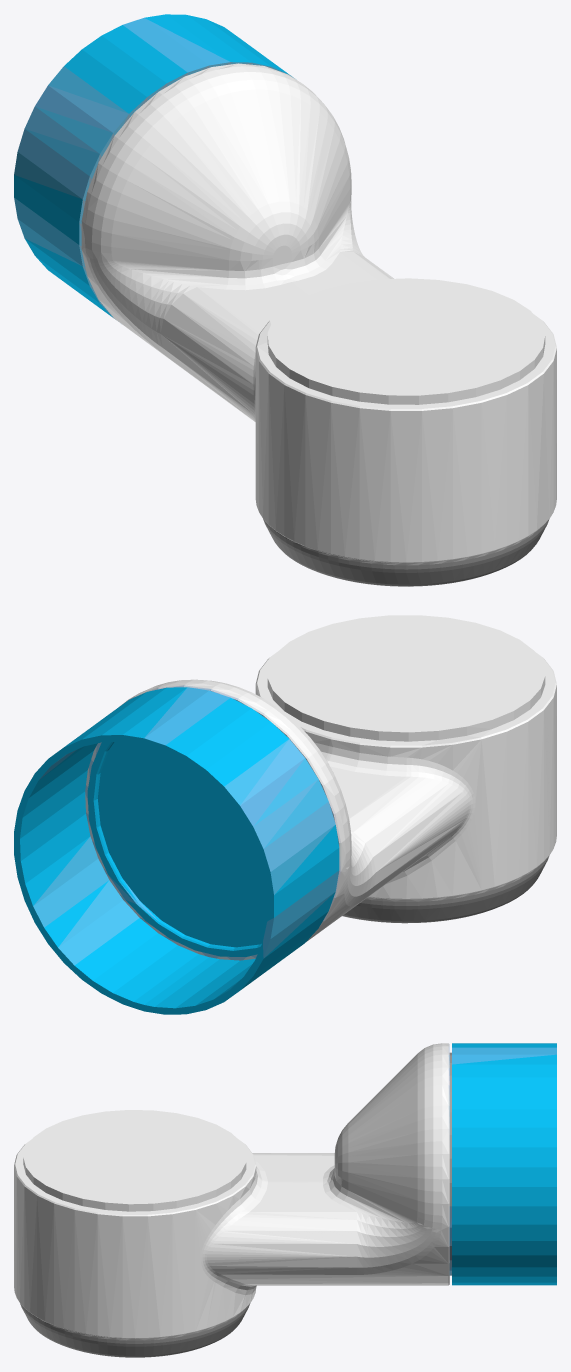
Rendered from FetchLink3.dae.
3 views of the same model, one above another, from view 1: azimuth 30°, elevation 25°; view 2: azimuth 150°, elevation 25°; view 3: azimuth 270°, elevation 25° (orthographic). The views are drawn at different scales.
Visible parts, largest first — view 1: FetchLink3; view 2: FetchLink3; view 3: FetchLink3.
Boxes of the visible parts, x1,y1,x2,y2 form: FetchLink3: [14, 14, 556, 586]; FetchLink3: [14, 615, 556, 1014]; FetchLink3: [14, 1043, 556, 1357].
Bounding box in the file's own units: 0.104 × 0.233 × 0.1225.
